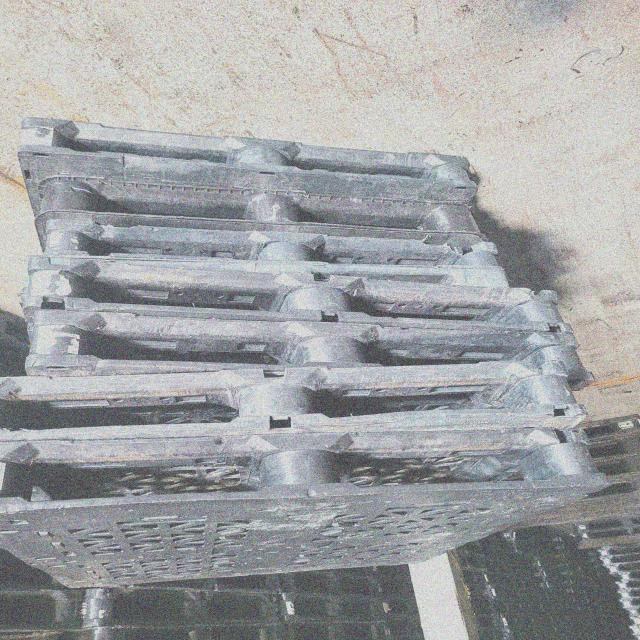igps: (0, 421, 622, 594), (0, 350, 594, 448), (16, 299, 600, 397), (12, 246, 580, 342), (31, 206, 521, 297), (8, 110, 488, 196), (11, 146, 484, 218), (24, 173, 495, 241), (74, 585, 286, 631), (494, 478, 640, 539), (70, 618, 286, 640), (274, 593, 392, 624), (566, 409, 640, 446), (280, 617, 392, 640), (580, 436, 640, 462), (574, 531, 640, 552), (584, 455, 640, 479), (595, 539, 640, 559), (570, 520, 640, 532), (596, 553, 640, 565), (600, 561, 640, 574), (617, 598, 640, 610), (615, 589, 640, 600), (613, 580, 640, 588), (619, 570, 640, 580)
